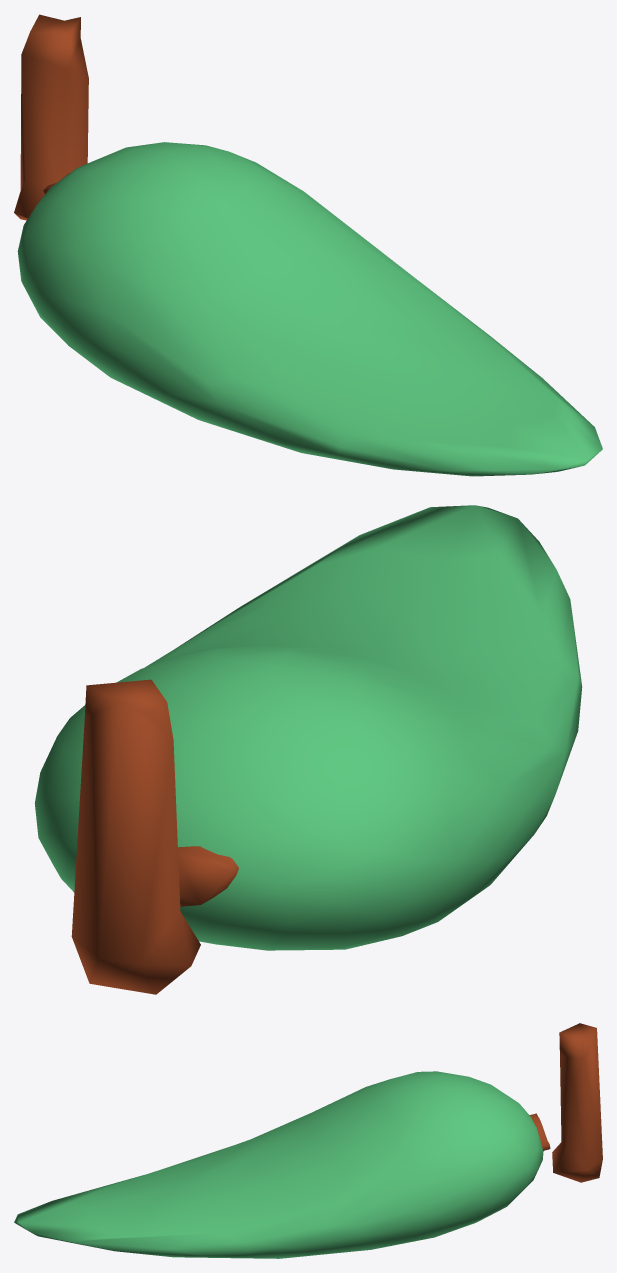
The model's file is brokentree.glb.
3 views of the same model, one above another, from view 1: azimuth 30°, elevation 25°; view 2: azimuth 150°, elevation 25°; view 3: azimuth 270°, elevation 25° (orthographic). The views are drawn at different scales.
Parts seen in each view (by area): view 1: Cylinder; view 2: Cylinder; view 3: Cylinder.
Part boxes in pixels (left/top/right/bottom): Cylinder: left=14, top=14, right=602, bottom=476; Cylinder: left=34, top=505, right=582, bottom=994; Cylinder: left=14, top=1023, right=602, bottom=1258.
Size of the model in its own units: 0.9593 by 0.6998 by 2.05.
